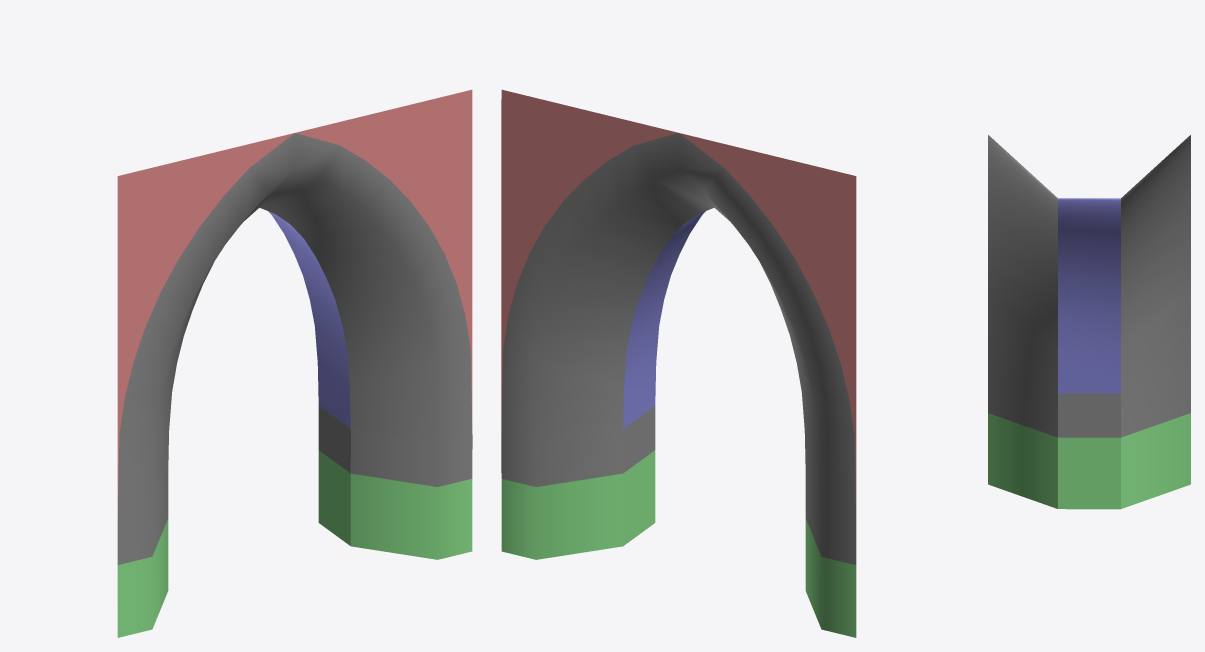
Rendered from sylentemple_side_ent.gltf.
3 views of the same model, side by side, from view 1: azimuth 30°, elevation 25°; view 2: azimuth 150°, elevation 25°; view 3: azimuth 270°, elevation 25° (orthographic).
Parts seen in each view (by area): view 1: sylentemple_side_ent; view 2: sylentemple_side_ent; view 3: sylentemple_side_ent.
Boxes of the visible parts, x1,y1,x2,y2 form: sylentemple_side_ent: [117, 89, 472, 637]; sylentemple_side_ent: [501, 89, 856, 637]; sylentemple_side_ent: [988, 135, 1190, 509].
Size of the model in its own units: 5.12 by 6.37 by 2.58.
